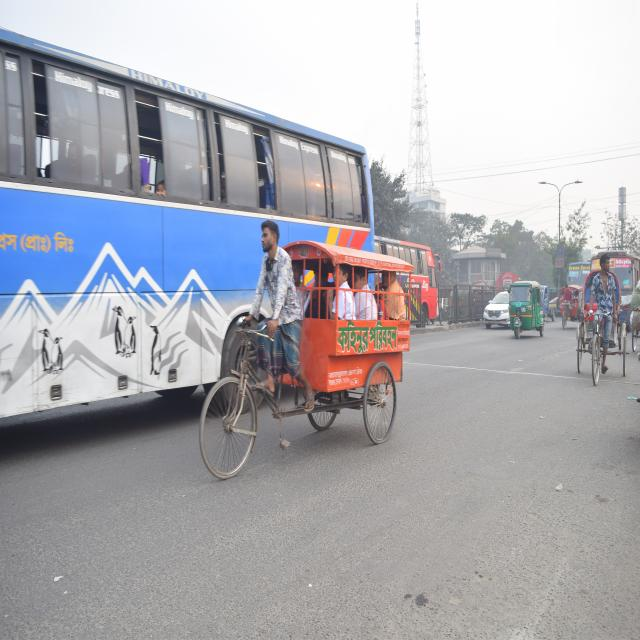bus: (1, 24, 396, 447), (372, 232, 455, 330), (590, 257, 640, 335), (566, 258, 594, 313)
car: (476, 285, 514, 340)
